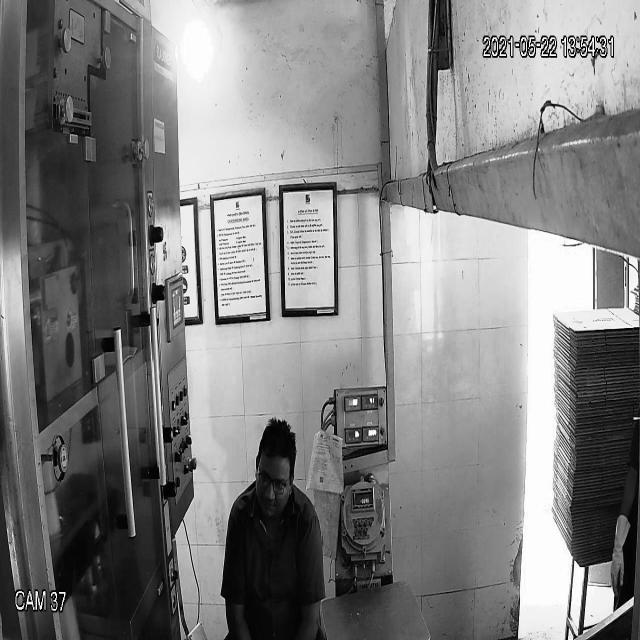glasses: (254, 460, 292, 498)
